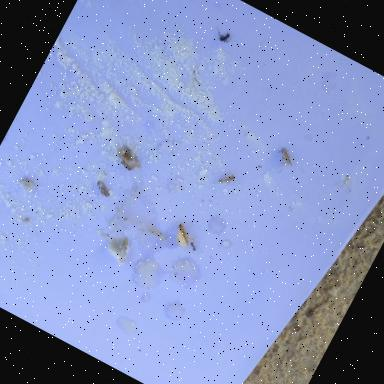pbw: (268, 146, 297, 176), (170, 220, 199, 249), (90, 180, 112, 199), (217, 170, 235, 188), (118, 238, 132, 254)
